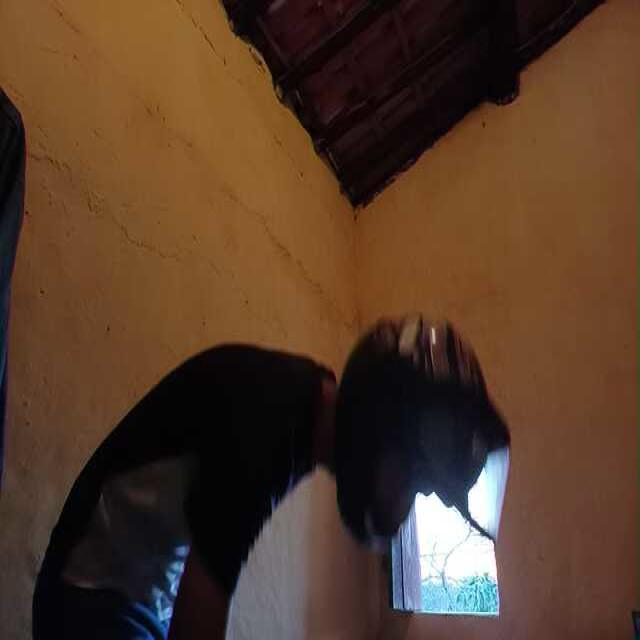capacete: (340, 323, 498, 546)
pessoa: (52, 330, 439, 640)
